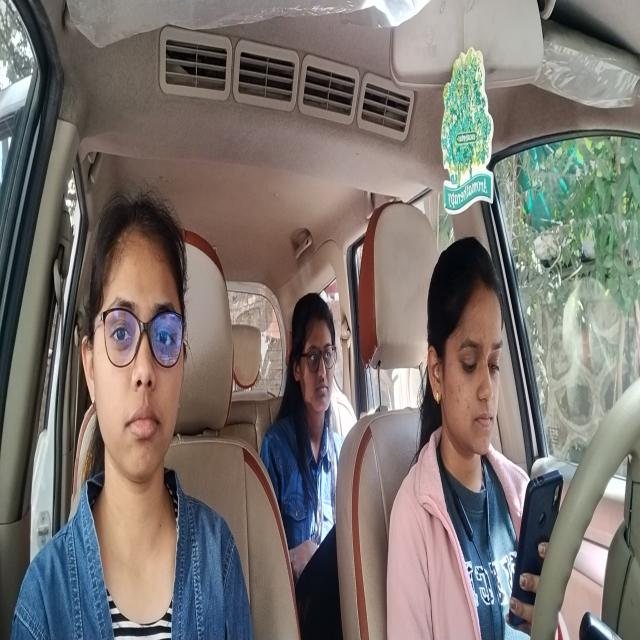mobile: (511, 458, 560, 631)
person: (77, 192, 200, 494), (424, 230, 504, 461), (286, 288, 338, 425)
